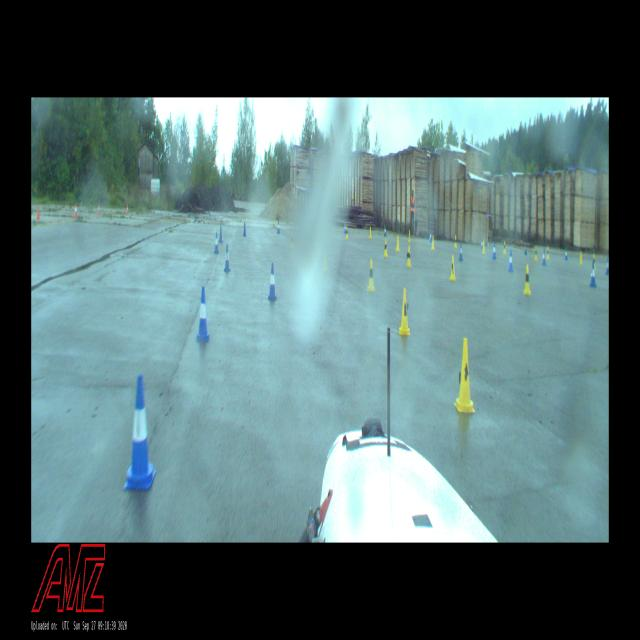blue_cone: (124, 374, 157, 489), (196, 286, 210, 342), (267, 263, 277, 300), (224, 244, 230, 271), (590, 261, 596, 287), (508, 250, 514, 271), (214, 232, 219, 254), (492, 243, 497, 259), (459, 243, 463, 261), (542, 248, 546, 266), (219, 225, 223, 242), (605, 257, 609, 274), (243, 222, 247, 236), (565, 249, 568, 260), (278, 221, 280, 234), (524, 242, 526, 255), (430, 230, 432, 242), (344, 223, 346, 233), (481, 239, 483, 249), (384, 226, 386, 236)
orange_cone: (36, 205, 40, 219), (74, 204, 77, 217), (126, 205, 129, 214), (98, 203, 100, 215)
yellow_cone: (454, 338, 475, 413), (398, 288, 411, 334), (366, 259, 376, 291), (523, 264, 531, 295), (449, 255, 456, 280), (406, 246, 412, 266), (322, 252, 328, 271), (383, 238, 388, 256), (290, 232, 294, 248), (396, 235, 400, 251), (482, 239, 486, 254), (534, 246, 538, 261), (431, 235, 435, 249), (593, 253, 596, 269), (454, 235, 457, 248), (546, 247, 549, 260), (369, 226, 372, 238), (408, 230, 411, 242), (503, 241, 506, 253), (346, 226, 348, 239), (580, 251, 582, 264)
